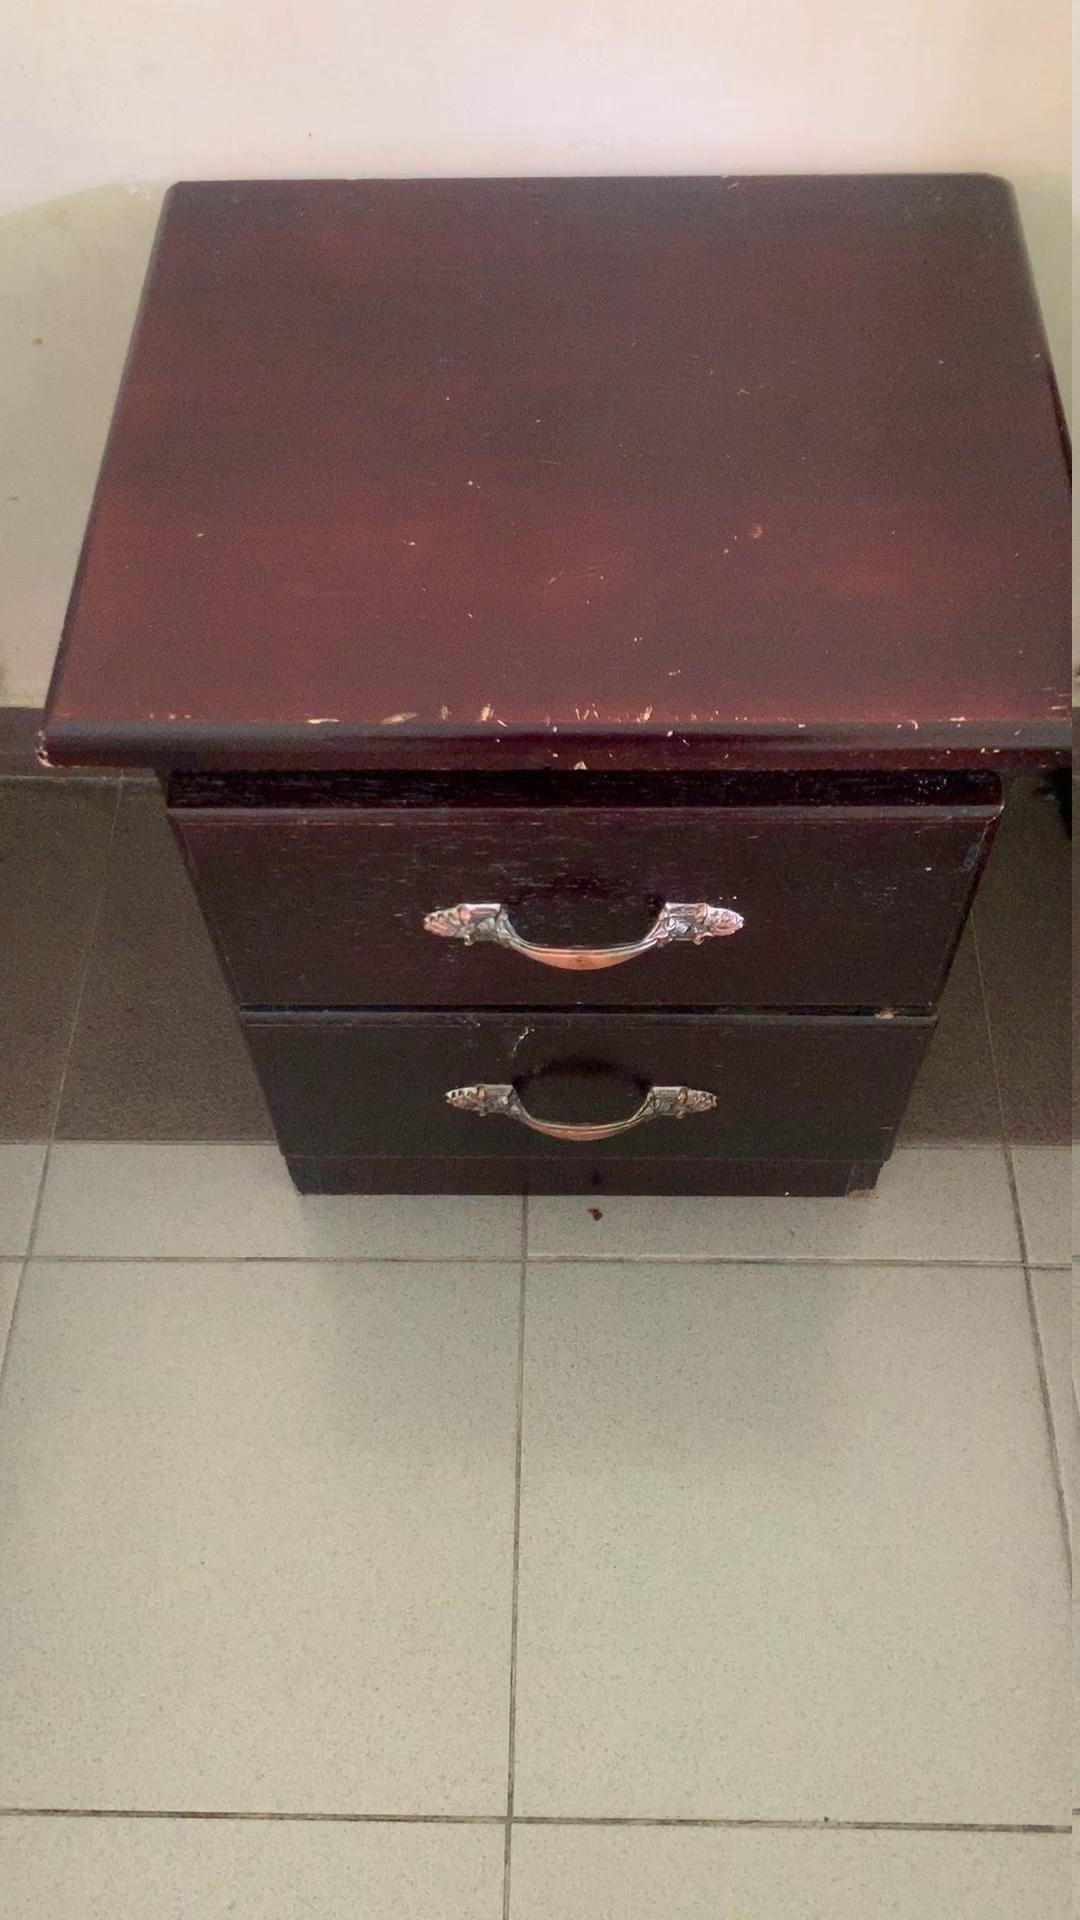cabinet_door: (198, 800, 965, 1006), (253, 1017, 910, 1193)
handle: (406, 880, 766, 980), (443, 1063, 727, 1160)
